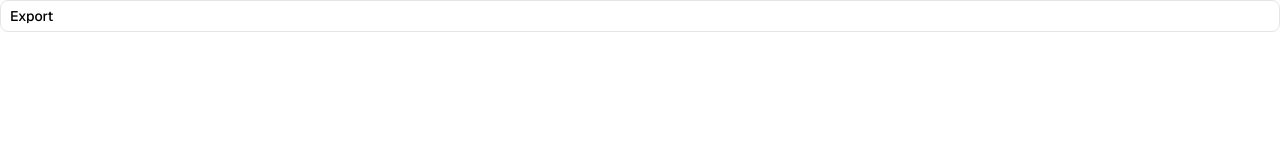
Test: Menubar › opens a submenu
Step 1. Click the menu item "Export" → (32, 16), box x1=4 y1=4 x2=59 y2=28
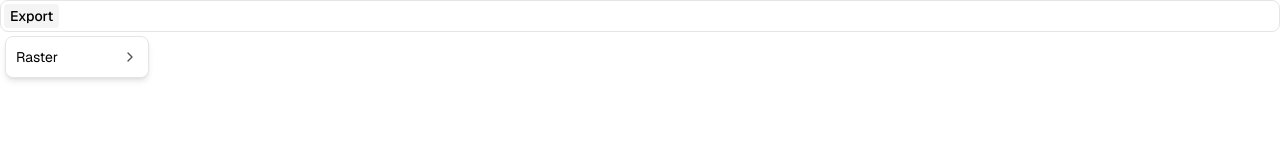
Step 2. Hover over the menu item "Raster" → (37, 57), box x1=16 y1=48 x2=138 y2=66
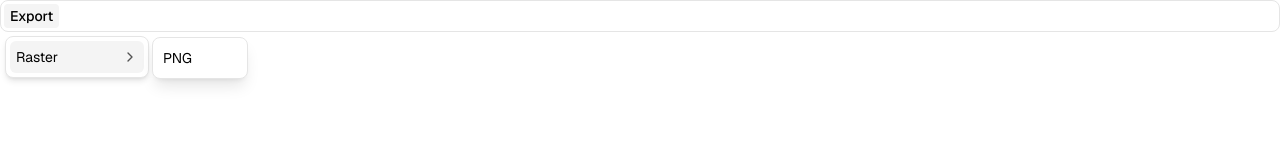
Result: the menu item "PNG" is shown at x1=163 y1=49 x2=192 y2=67
